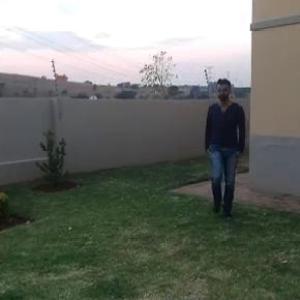follow: (205, 70, 261, 236)
